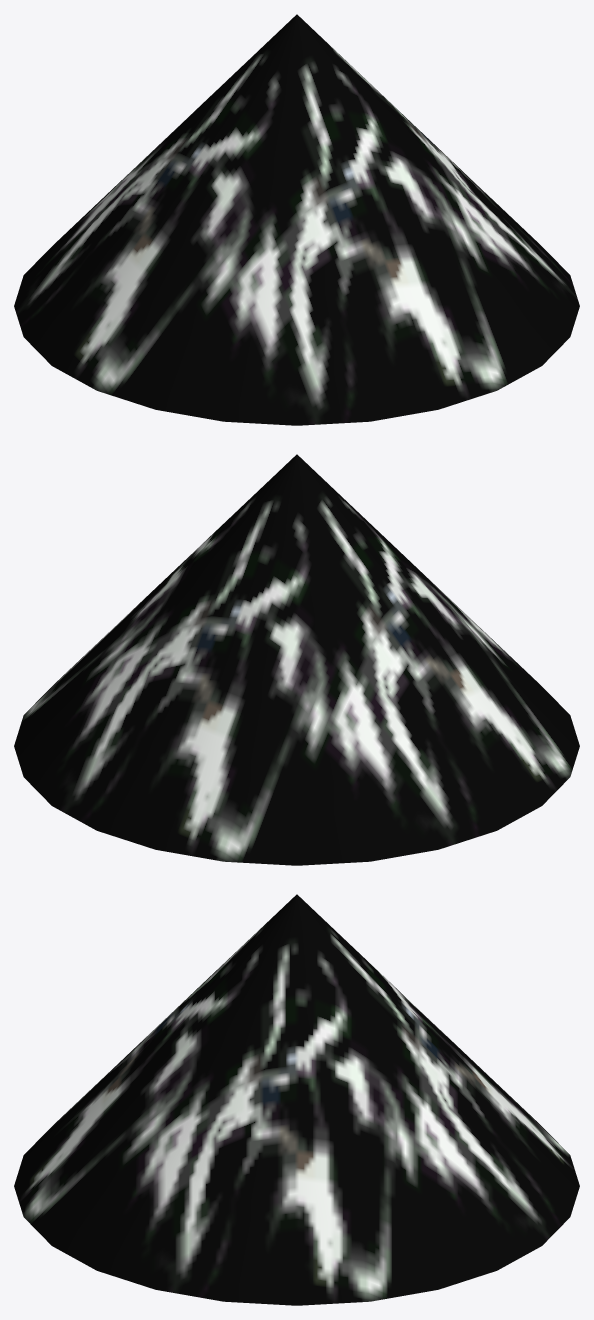
File: M_banzhui_001.FBX
3 renders of one model, top to bottom at view 1: azimuth 30°, elevation 25°; view 2: azimuth 150°, elevation 25°; view 3: azimuth 270°, elevation 25°, orthographic.
Visible parts, largest first — view 1: Cone001; view 2: Cone001; view 3: Cone001.
Boxes of the visible parts, x1=… form: Cone001: x1=14, y1=14, x2=579, y2=425; Cone001: x1=14, y1=454, x2=579, y2=865; Cone001: x1=14, y1=894, x2=579, y2=1305.
Bounding box in the file's own units: 36.22 × 20.62 × 36.22.
1 material, 1 textured.
